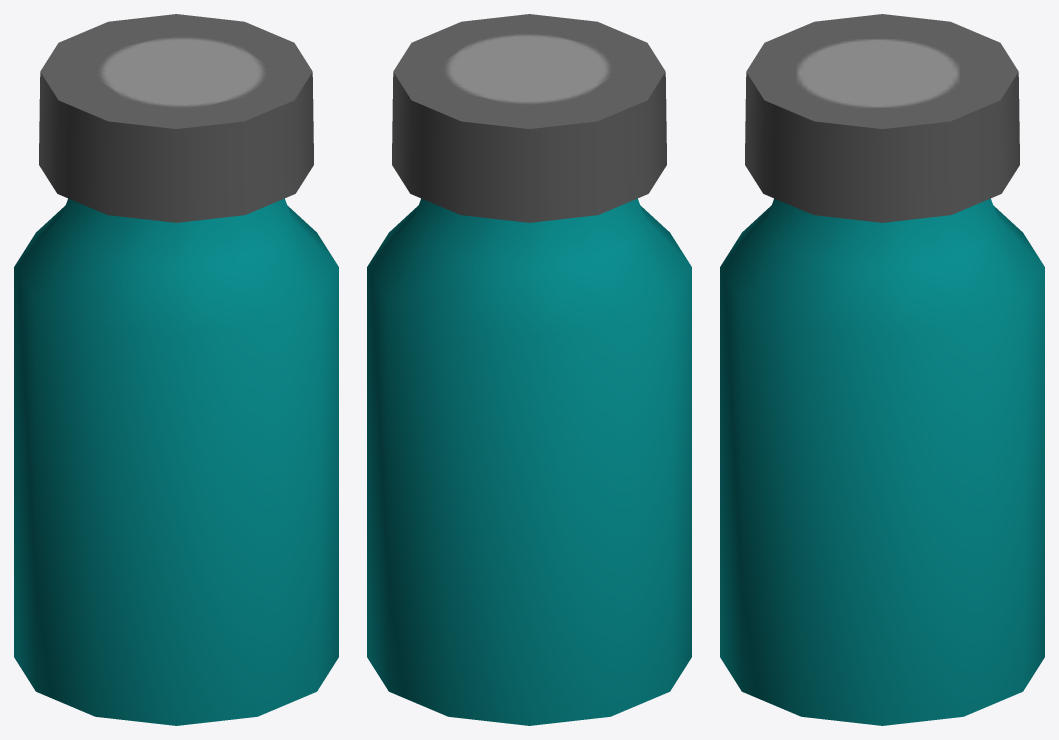
File: vial1.FBX
The picture shows the model from 3 angles, left to right: view 1: azimuth 30°, elevation 25°; view 2: azimuth 150°, elevation 25°; view 3: azimuth 270°, elevation 25°; orthographic projection.
Parts seen in each view (by area): view 1: vial1; view 2: vial1; view 3: vial1.
Boxes of the visible parts, x1,y1,x2,y2 form: vial1: [14, 14, 338, 725]; vial1: [367, 14, 691, 725]; vial1: [720, 14, 1044, 725].
Bounding box in the file's own units: 2.15 × 2.15 × 4.28.
